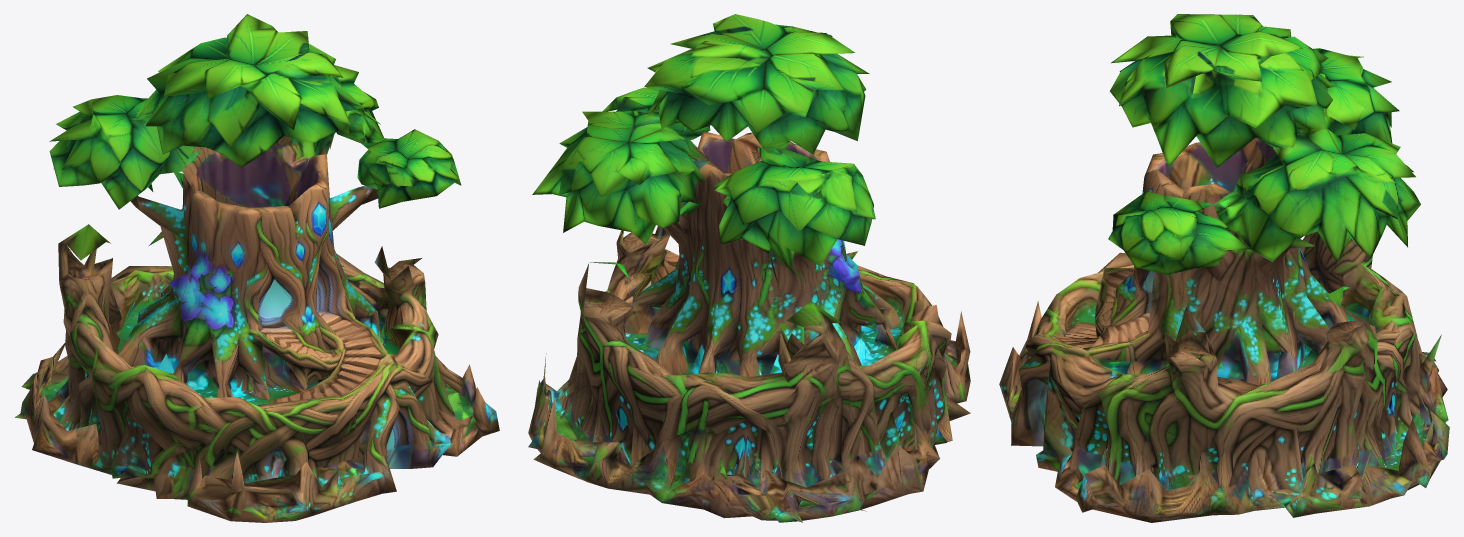
Rendered from ElderTree.fbx.
The picture shows the model from 3 angles, left to right: view 1: azimuth 30°, elevation 25°; view 2: azimuth 150°, elevation 25°; view 3: azimuth 270°, elevation 25°; orthographic projection. The views are drawn at different scales.
Parts seen in each view (by area): view 1: Mesh_0; view 2: Mesh_0; view 3: Mesh_0.
Boxes of the visible parts, x1=… form: Mesh_0: x1=14, y1=14, x2=499, y2=522; Mesh_0: x1=528, y1=14, x2=970, y2=522; Mesh_0: x1=999, y1=14, x2=1449, y2=522.
Bounding box in the file's own units: 189 × 180 × 185.
Materials: 1 (1 with a texture image).
